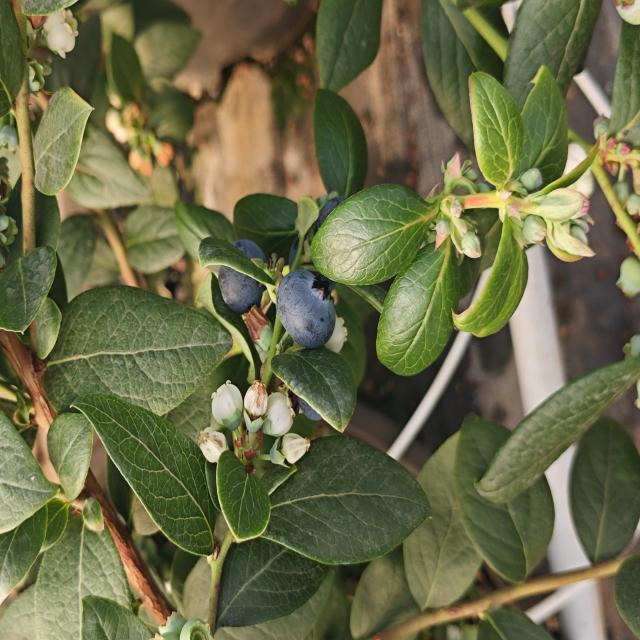ripe: (275, 269, 343, 351), (215, 238, 266, 314), (308, 194, 352, 235), (286, 225, 312, 273), (295, 394, 334, 426)
